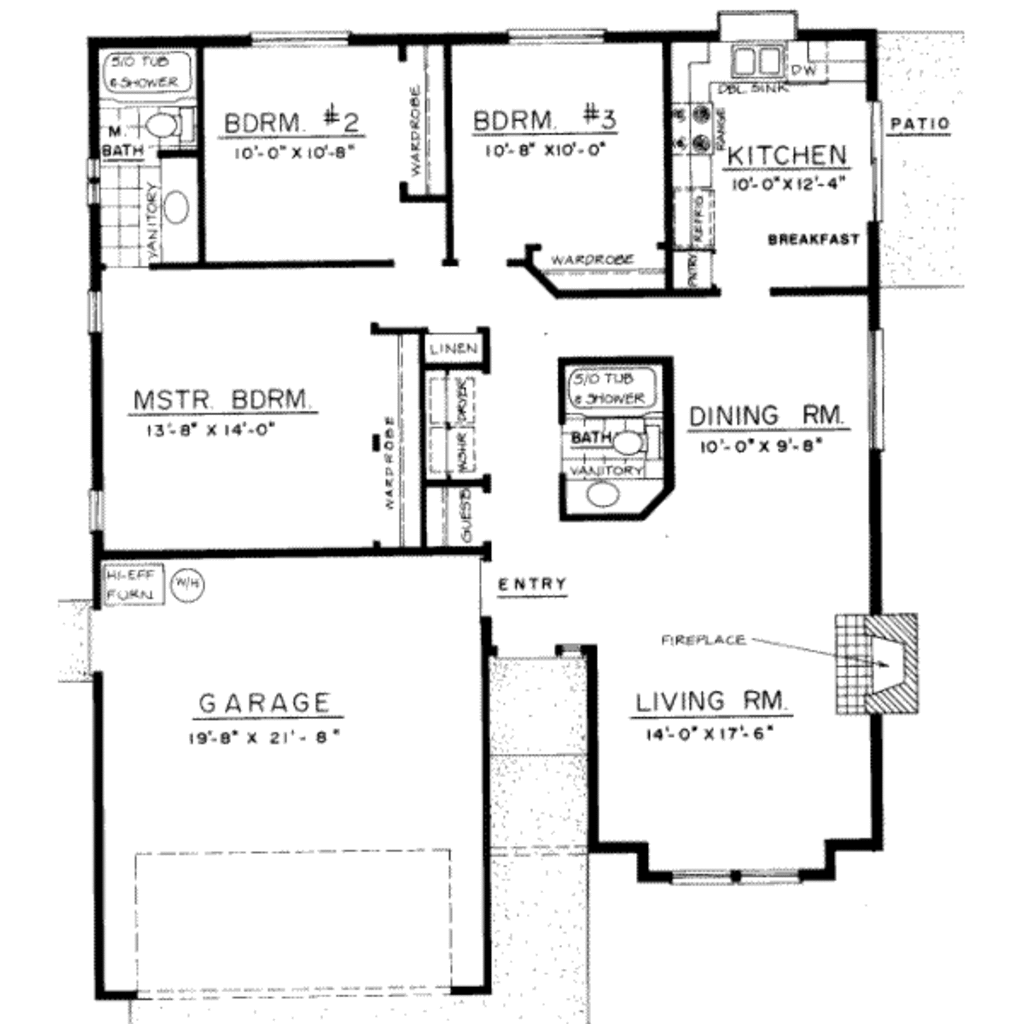large_sink: (601, 415, 666, 470), (139, 95, 199, 147)
small_sink: (155, 157, 201, 261), (569, 474, 665, 519)
tub: (97, 48, 196, 101), (567, 370, 665, 406)
twin_sink: (721, 37, 794, 94)
window: (850, 322, 897, 464), (496, 23, 609, 52), (247, 25, 353, 51), (73, 482, 117, 538), (75, 288, 116, 342)
